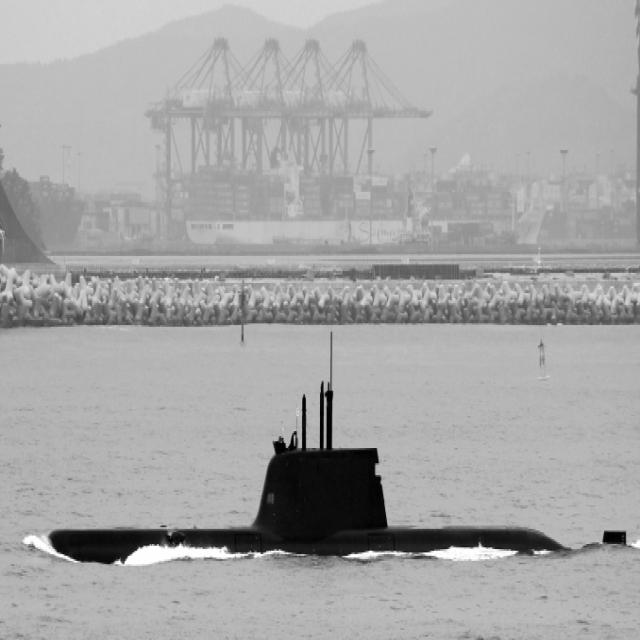submarine: (35, 336, 630, 554)
